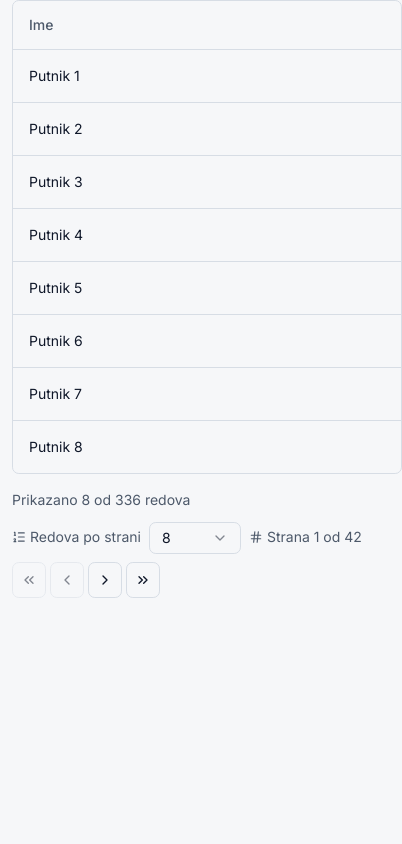
data table pagination › jumps to the first and last page without the page buttons
The image size is (402, 844).
Click the button named "Poslednja strana" at point(143, 580), box [126,562,160,598]
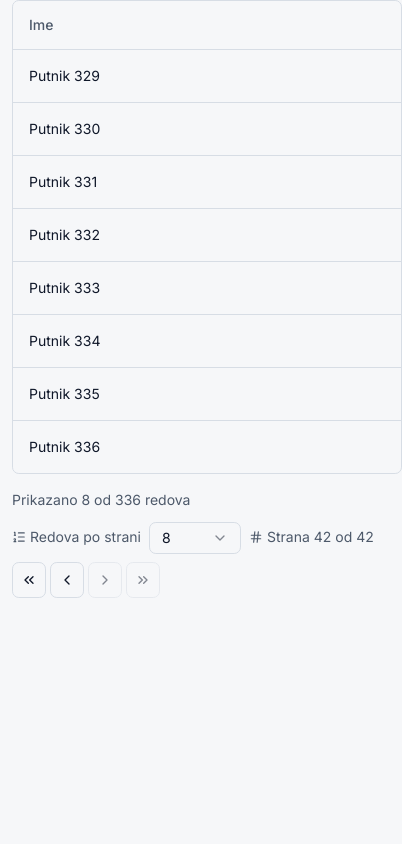
Now the text "Strana 42 od 42" is shown, box [249,526,374,546]
Click the button named "Prva strana" at point(29, 580), box [12,562,46,598]
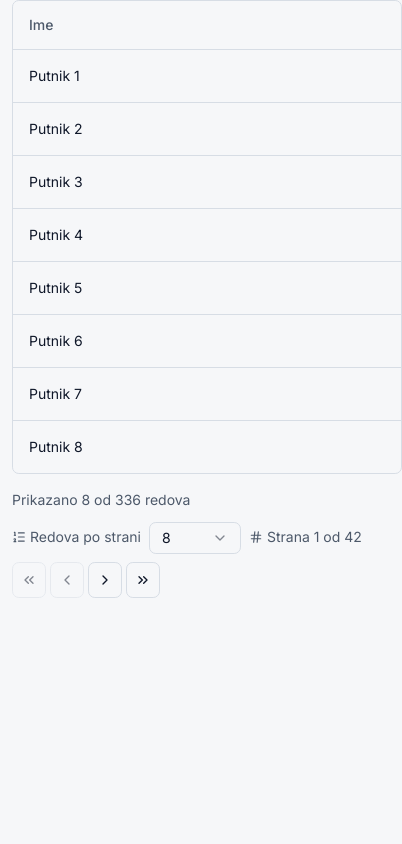
Now the text "Strana 1 od 42" is shown, box [249,526,362,546]
Now the text "Putnik 1" is shown, box [13,49,401,102]
